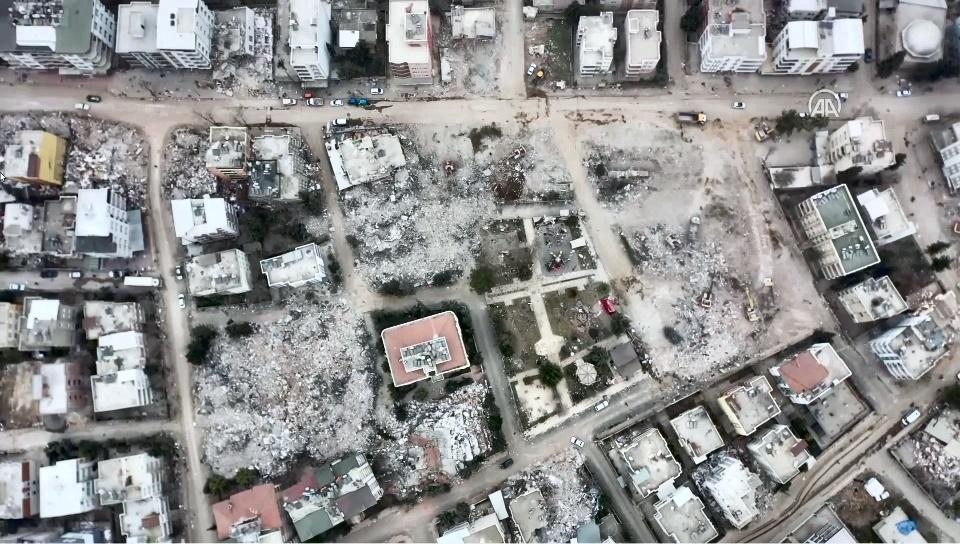kapali: (338, 283, 433, 509), (631, 317, 791, 416)
